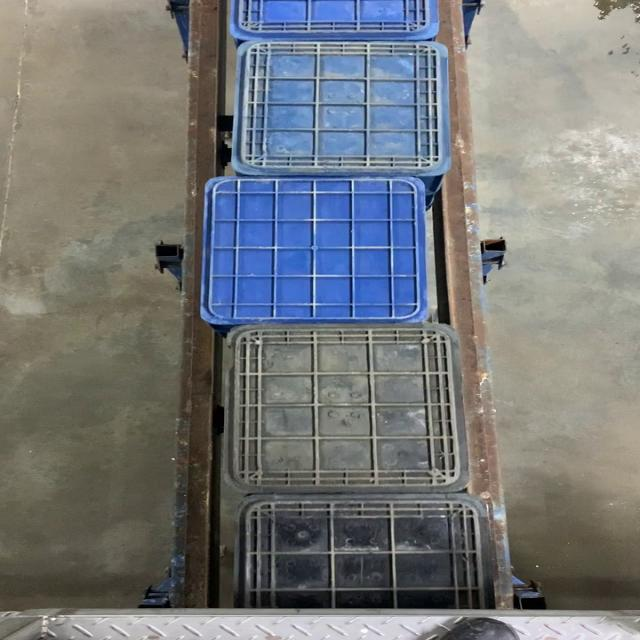Box: (221, 323, 471, 491), (203, 176, 424, 322), (230, 38, 452, 176)
